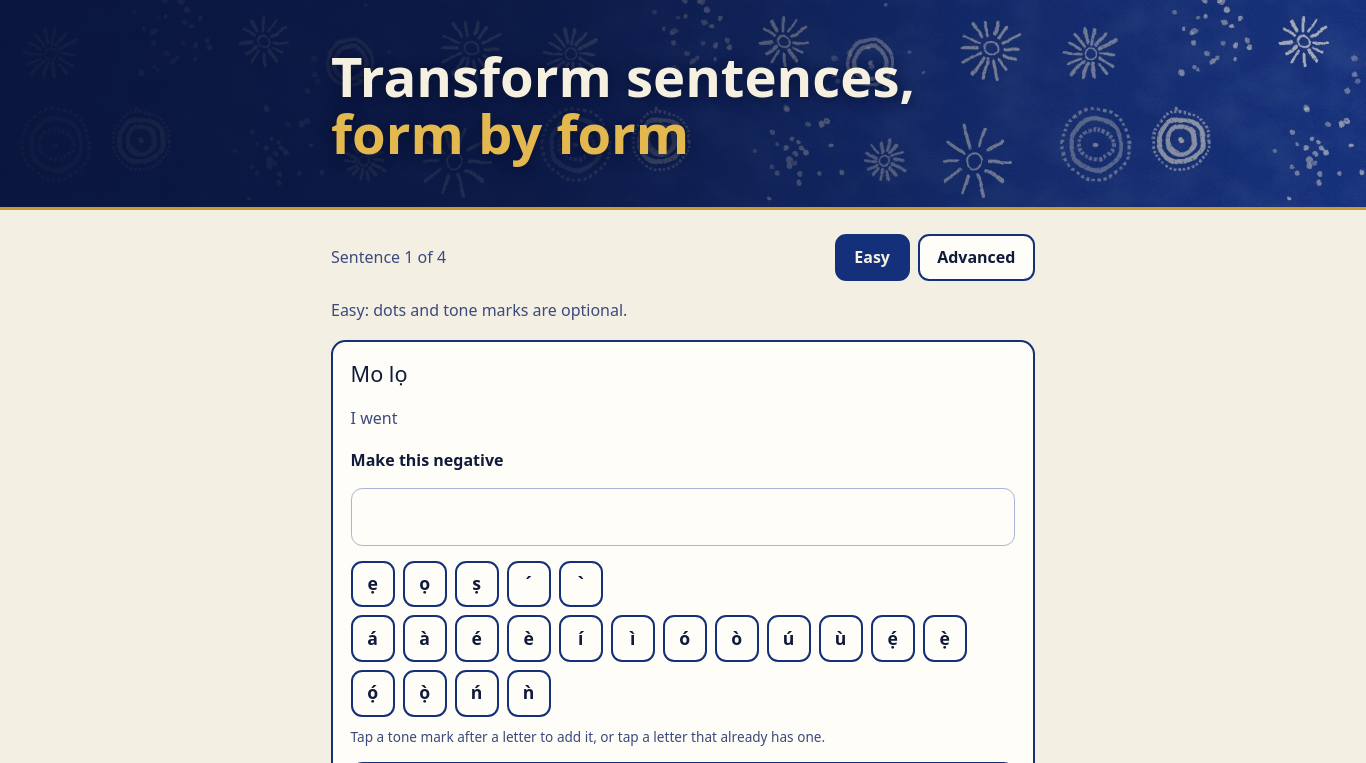
Transform page › inserts a tapped letter at the caret
Type "m" into the field with test id "transform-input".
click(683, 517); type("m")  # box [351,488,1015,546]
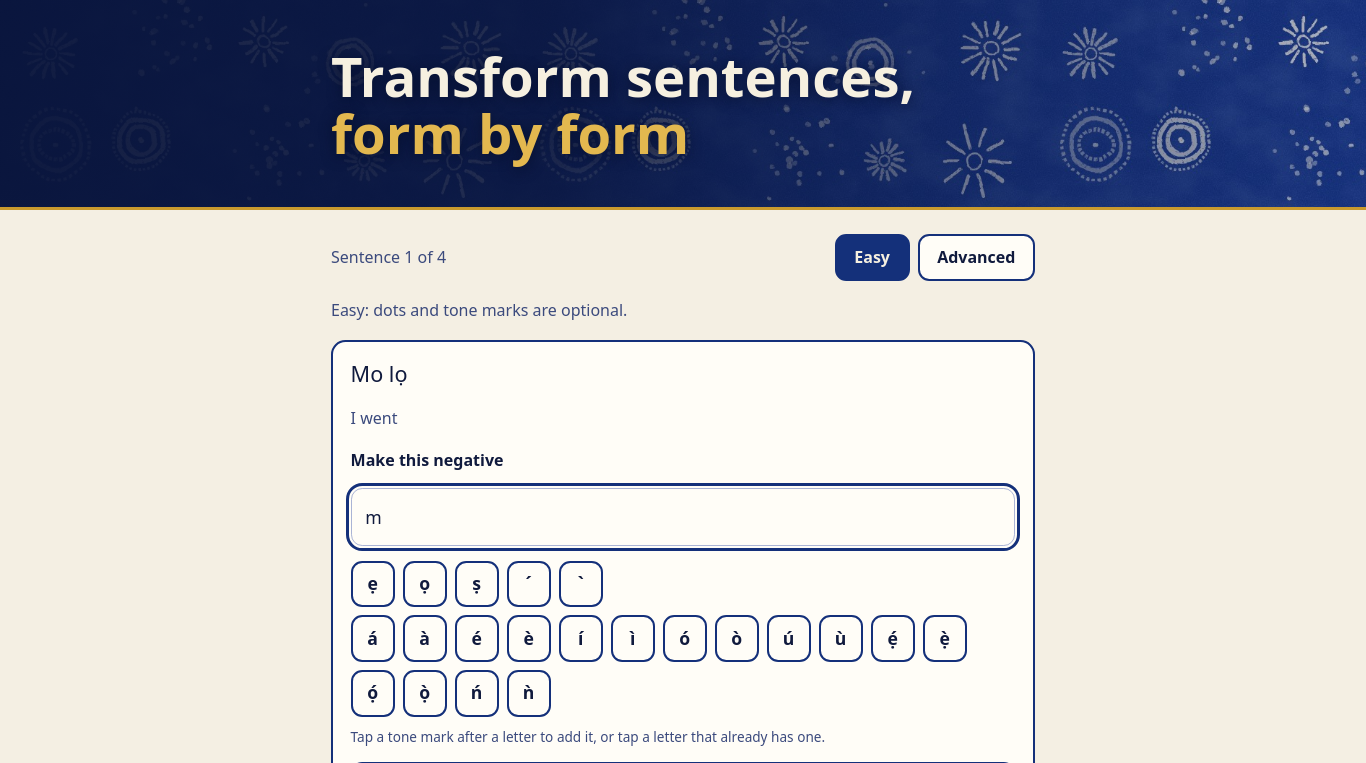
Click the button "ọ".
click(425, 584)  # box [403,560,447,607]
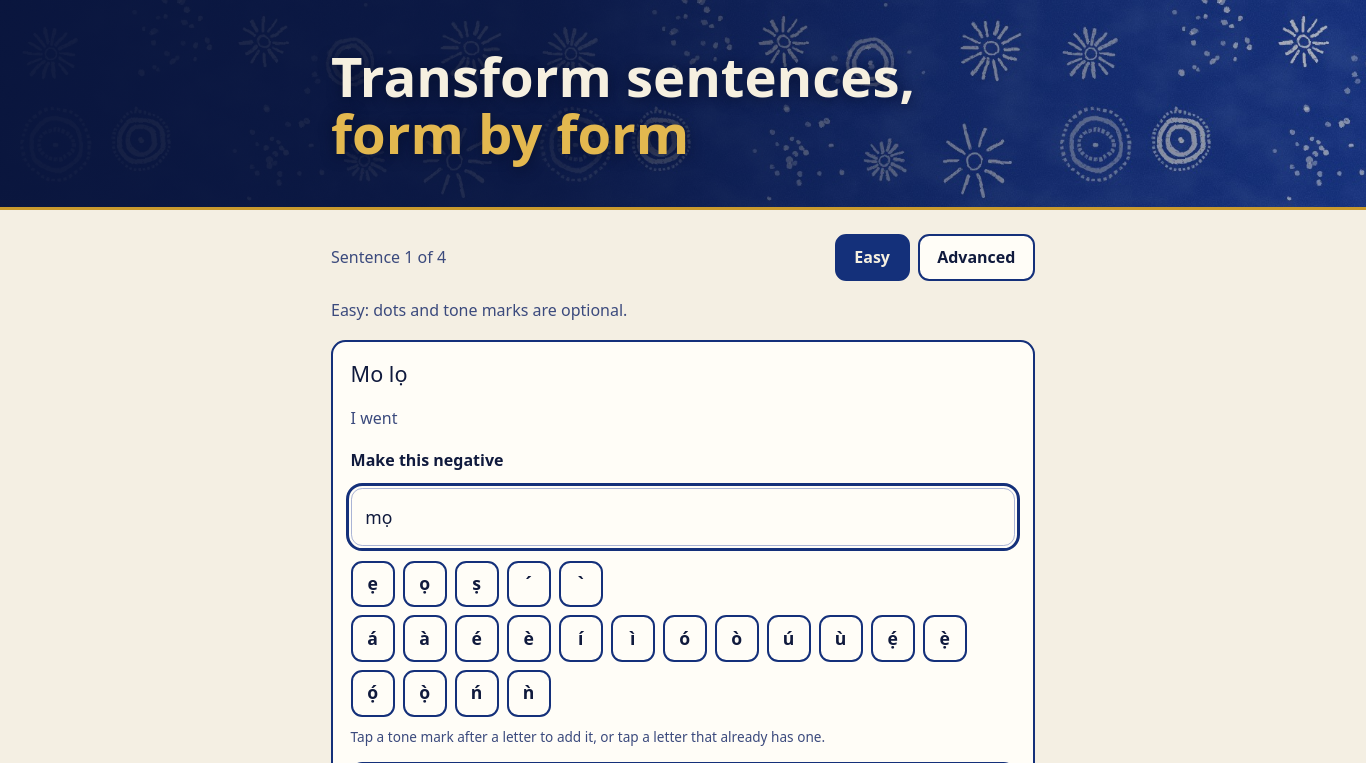
Expected: the field with test id "transform-input" holds "mọ", [351,488,1015,546]
